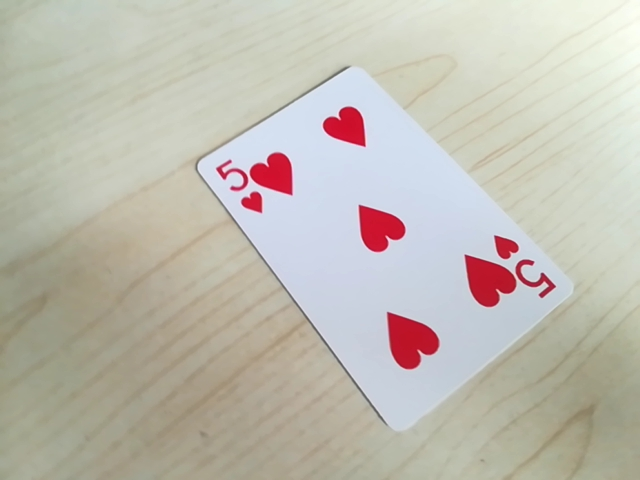hx 5: (488, 233, 558, 303), (208, 155, 277, 213)
